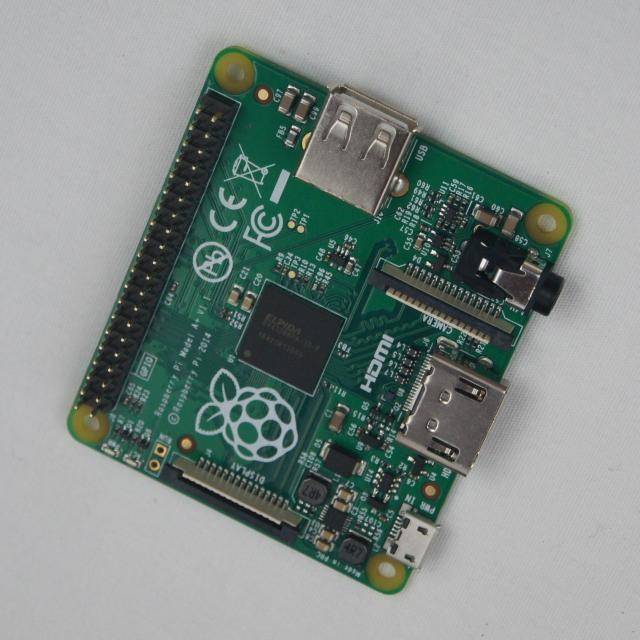Raspberry-Pi-1-A-: (68, 48, 572, 595)
